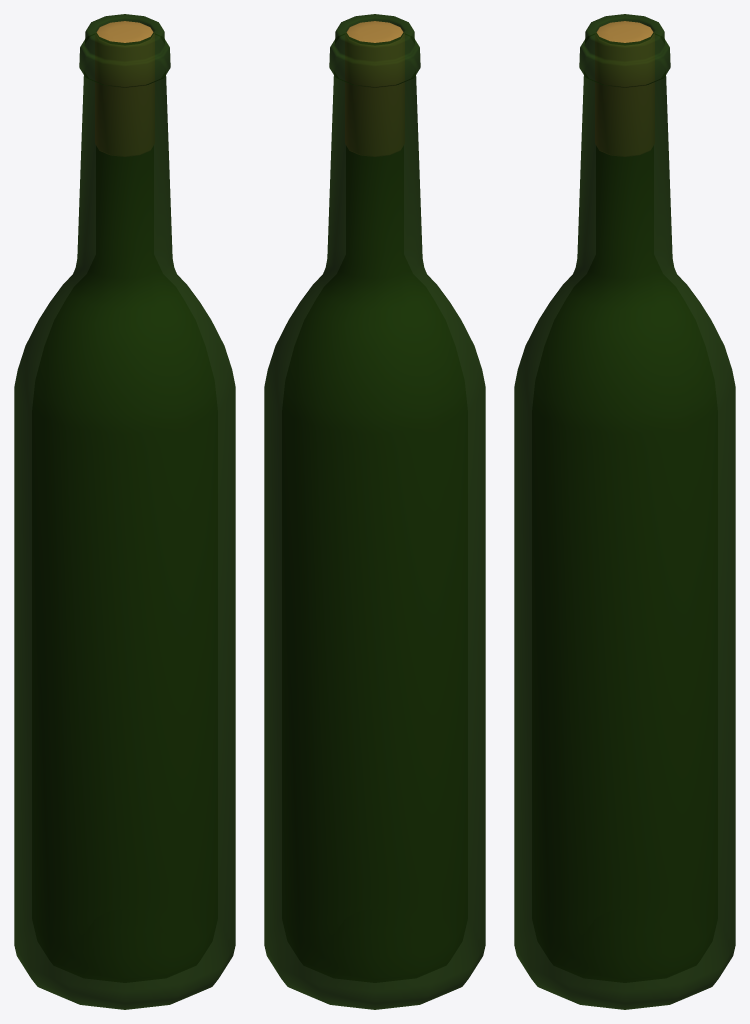
Rendered from WineBottleCrisoExample.fbx.
The picture shows the model from 3 angles, left to right: view 1: azimuth 30°, elevation 25°; view 2: azimuth 150°, elevation 25°; view 3: azimuth 270°, elevation 25°; orthographic projection.
Parts seen in each view (by area): view 1: Cylinder, Cylinder.001; view 2: Cylinder, Cylinder.001; view 3: Cylinder, Cylinder.001.
Boxes of the visible parts, x1,y1,x2,y2 form: Cylinder: (14,14,235,1009); Cylinder.001: (95,21,154,156); Cylinder: (264,14,485,1009); Cylinder.001: (345,21,404,156); Cylinder: (514,14,735,1009); Cylinder.001: (595,21,654,156).
Size of what is drawn, in the model's own units: 96.8 by 455 by 96.8.
